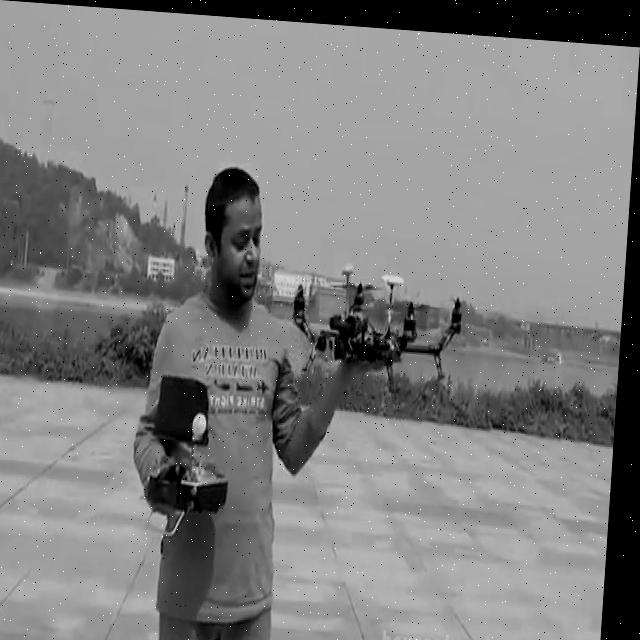drone: (289, 248, 475, 410)
